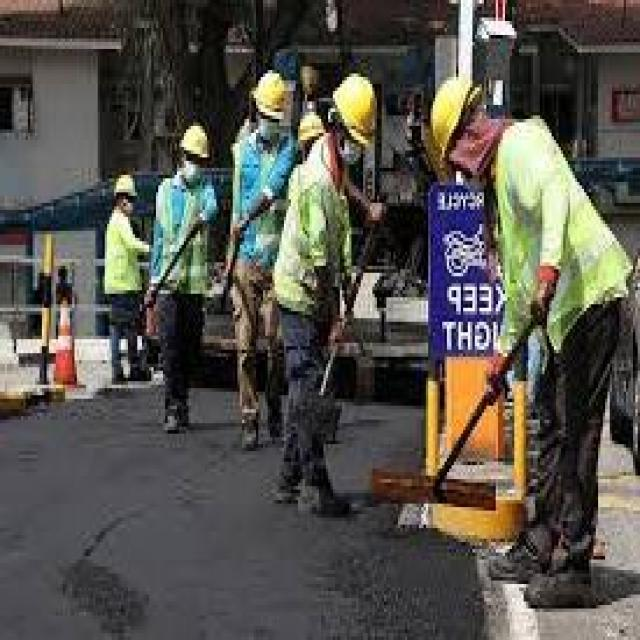Reflective-Jacket: (484, 112, 638, 353), (267, 160, 360, 322), (149, 175, 223, 315), (229, 134, 288, 300), (96, 206, 146, 308)
Safety-Helmet: (419, 60, 491, 178), (326, 63, 386, 154), (244, 63, 294, 129), (172, 116, 219, 172), (291, 105, 328, 157), (107, 164, 142, 207)
